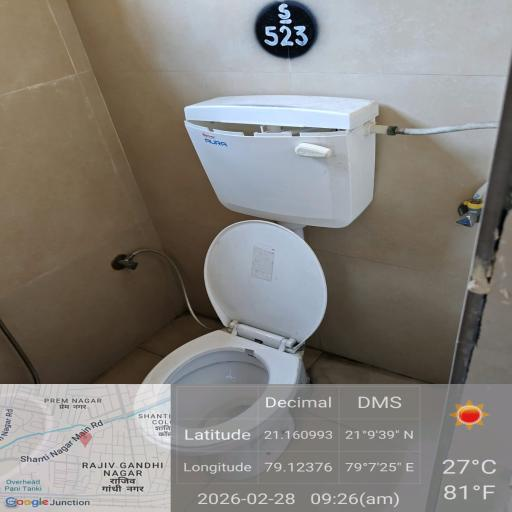clean_floor: (71, 61, 459, 202)
clean_western: (135, 256, 356, 480)
